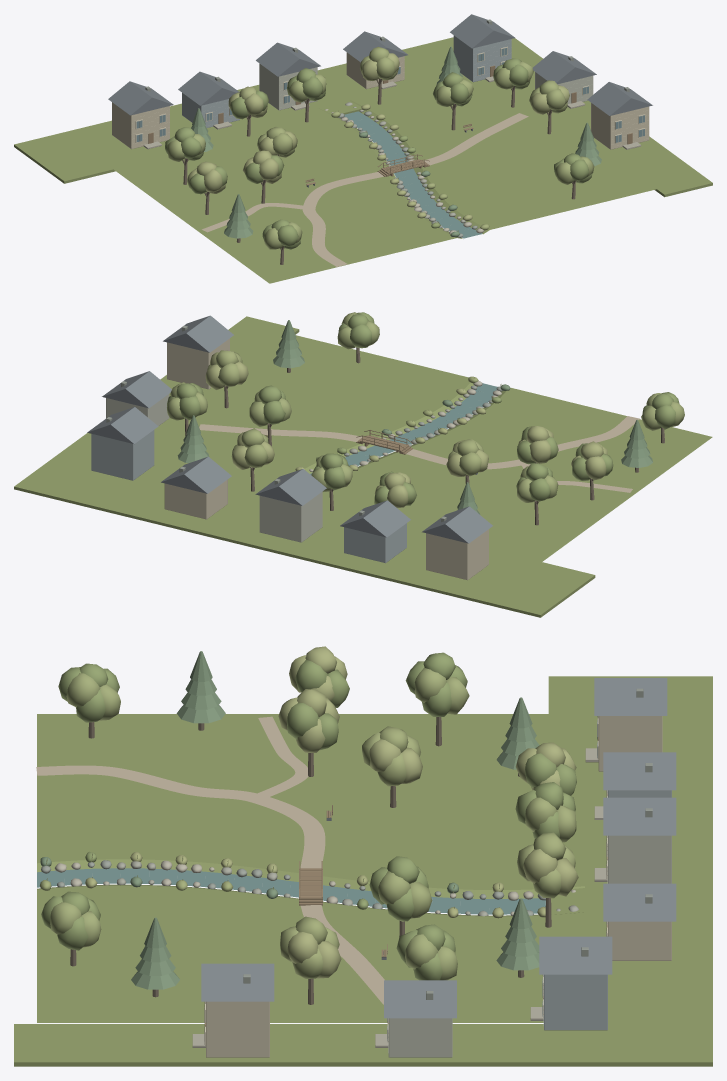
Rendered from Park_Study_v02.fbx.
The picture shows the model from 3 angles, top to bottom: view 1: azimuth 30°, elevation 25°; view 2: azimuth 150°, elevation 25°; view 3: azimuth 270°, elevation 25°; orthographic projection. The views are drawn at different scales.
Visible parts, largest first — view 1: V02_Lawn_Left, V02_Lawn_Right, Neighborhood_Ground, Neighborhood_East, V02_Creek_Surface, House_06_Body.001, House_00_Body.001, House_04_Body.001, Path_Lawn, House_00_Roof.001, House_06_Roof.001, House_04_Roof.001 (+10 smaller); view 2: V02_Lawn_Left, V02_Lawn_Right, Neighborhood_Ground, Neighborhood_East, House_02_Body.001, House_04_Body.001, House_00_Body.001, V02_Creek_Surface, House_06_Body.001, House_03_Body.001, House_01_Body.001, House_04_Roof.001 (+9 smaller); view 3: V02_Lawn_Left, V02_Lawn_Right, Neighborhood_Ground, Neighborhood_East, V02_Creek_Surface, Path_Lawn, House_04_Body.001, House_06_Body.001, House_02_Body.001, House_02_Roof.001, House_03_Roof.001, House_04_Roof.001 (+22 smaller).
Part boxes in pixels (x1,y1,x2,y2): V02_Lawn_Left: [102, 108, 462, 283]; V02_Lawn_Right: [350, 74, 656, 234]; Neighborhood_Ground: [14, 37, 542, 183]; Neighborhood_East: [511, 50, 712, 197]; V02_Creek_Surface: [344, 111, 482, 238]; House_06_Body.001: [591, 103, 649, 149]; House_00_Body.001: [112, 102, 169, 149]; House_04_Body.001: [453, 35, 511, 82]; Path_Lawn: [302, 172, 383, 266]; House_00_Roof.001: [108, 81, 173, 115]; House_06_Roof.001: [587, 82, 652, 115]; House_04_Roof.001: [450, 14, 514, 48]; V02_Lawn_Left: [322, 387, 712, 570]; V02_Lawn_Right: [141, 335, 477, 504]; Neighborhood_Ground: [14, 446, 595, 617]; Neighborhood_East: [50, 316, 299, 467]; House_02_Body.001: [259, 491, 322, 542]; House_04_Body.001: [91, 430, 154, 480]; House_00_Body.001: [426, 529, 488, 580]; V02_Creek_Surface: [310, 383, 497, 474]; House_06_Body.001: [167, 338, 229, 389]; House_03_Body.001: [164, 479, 227, 519]; House_01_Body.001: [344, 523, 406, 563]; House_04_Roof.001: [87, 407, 158, 443]; V02_Lawn_Left: [37, 714, 584, 898]; V02_Lawn_Right: [37, 884, 584, 1022]; Neighborhood_Ground: [548, 676, 712, 1066]; Neighborhood_East: [14, 1024, 607, 1066]; V02_Creek_Surface: [37, 868, 545, 914]; Path_Lawn: [36, 765, 325, 868]; House_04_Body.001: [544, 974, 607, 1030]; House_06_Body.001: [206, 1001, 269, 1057]; House_02_Body.001: [608, 835, 671, 883]; House_02_Roof.001: [603, 797, 676, 835]; House_03_Roof.001: [603, 883, 676, 921]; House_04_Roof.001: [539, 936, 612, 974].
Bounding box in the file's own units: 10000 × 1176 × 7650.
